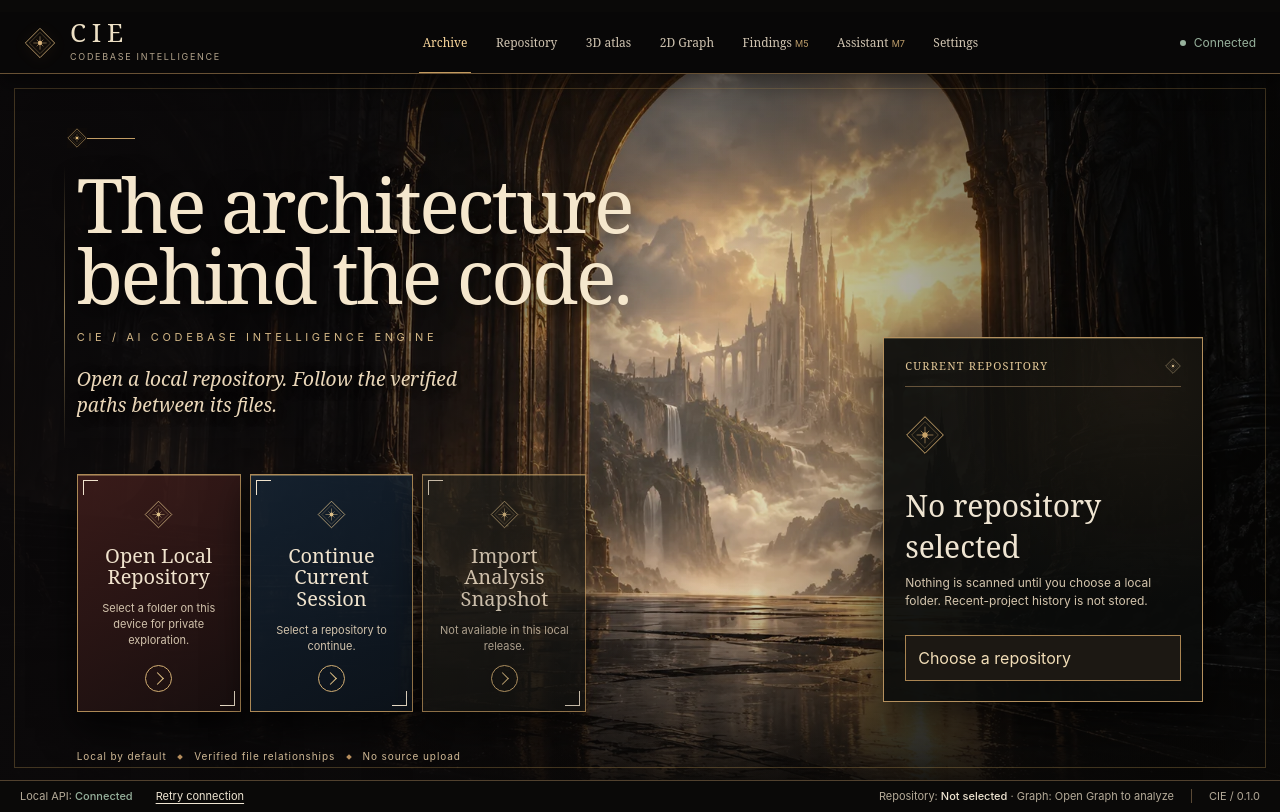
Test: discards a late tree response after switching repositories
Click the button "Repository".
click(527, 42)  # box 492,12 -> 561,73
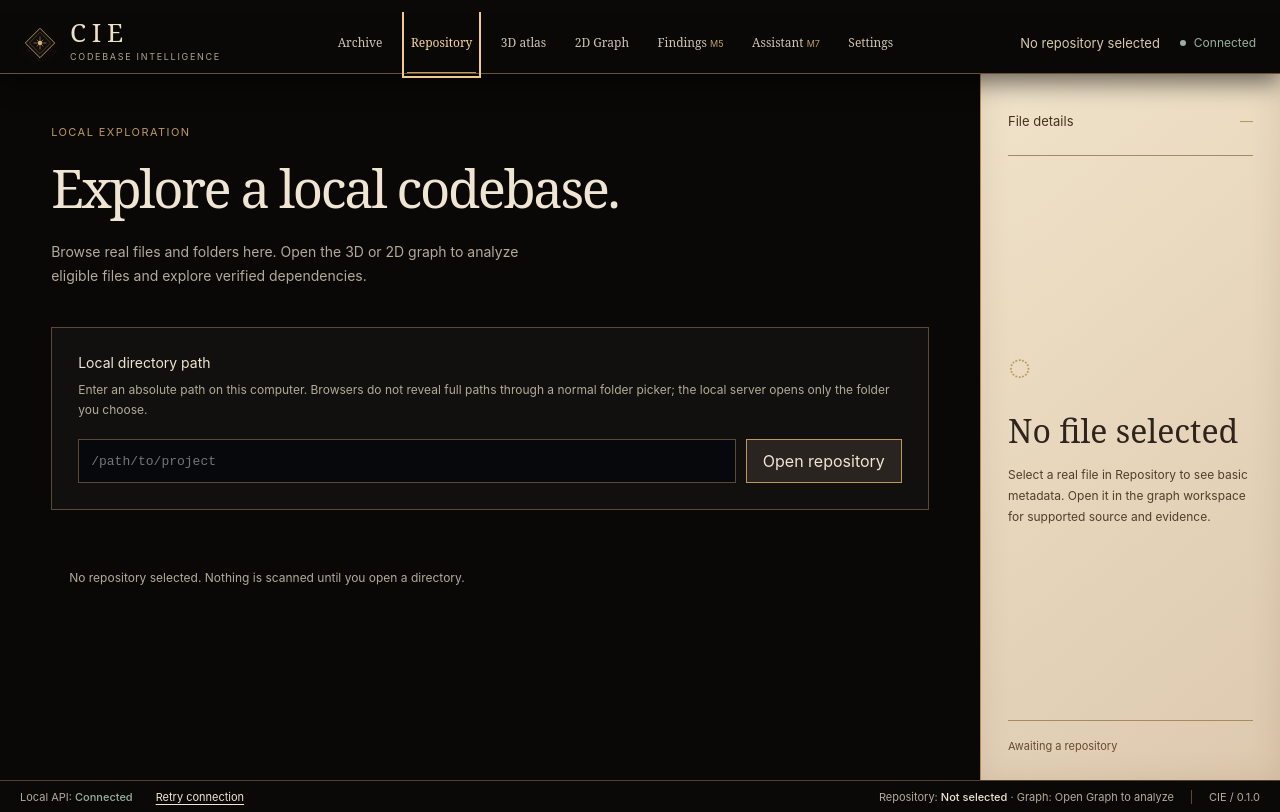
Type "/first" into the field labelled "Local directory path".
click(407, 462); type("/first")  # box 78,440 -> 736,484
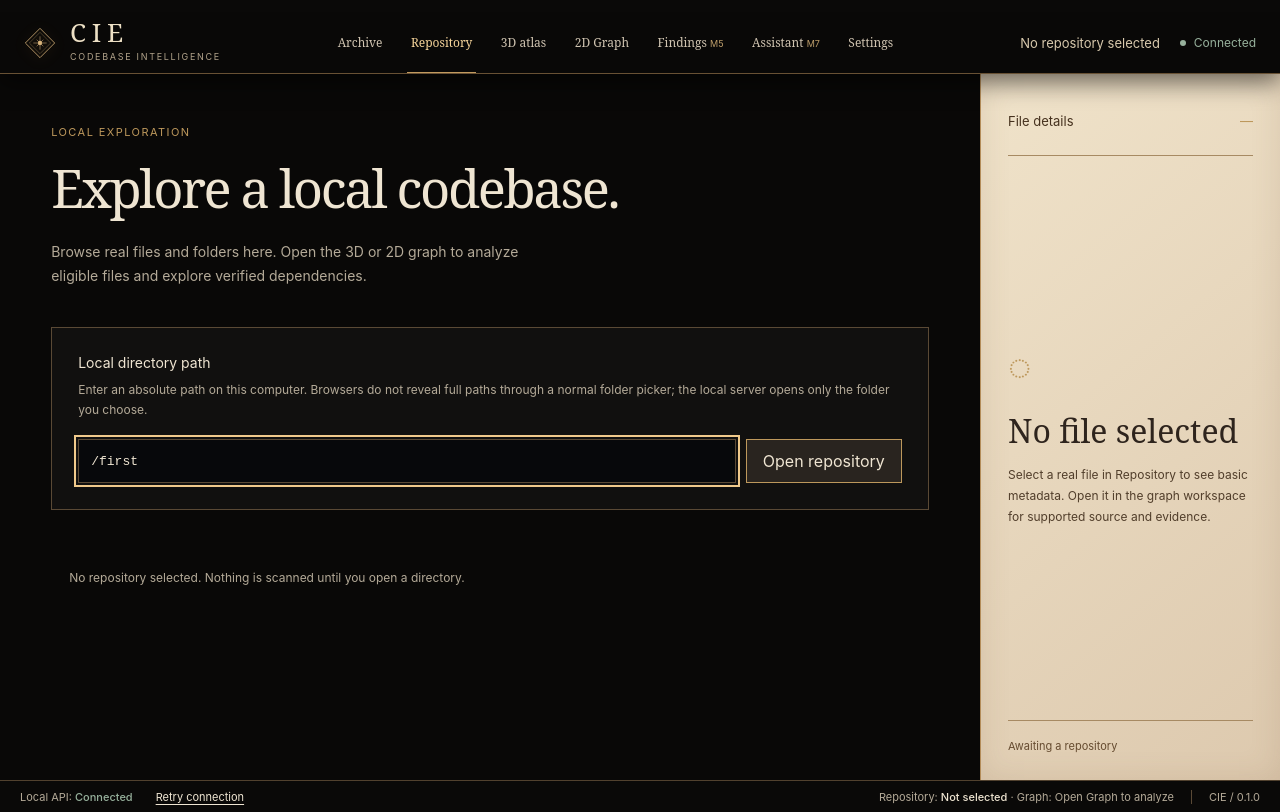
Click the button "Open repository".
click(824, 462)  # box 746,440 -> 902,484
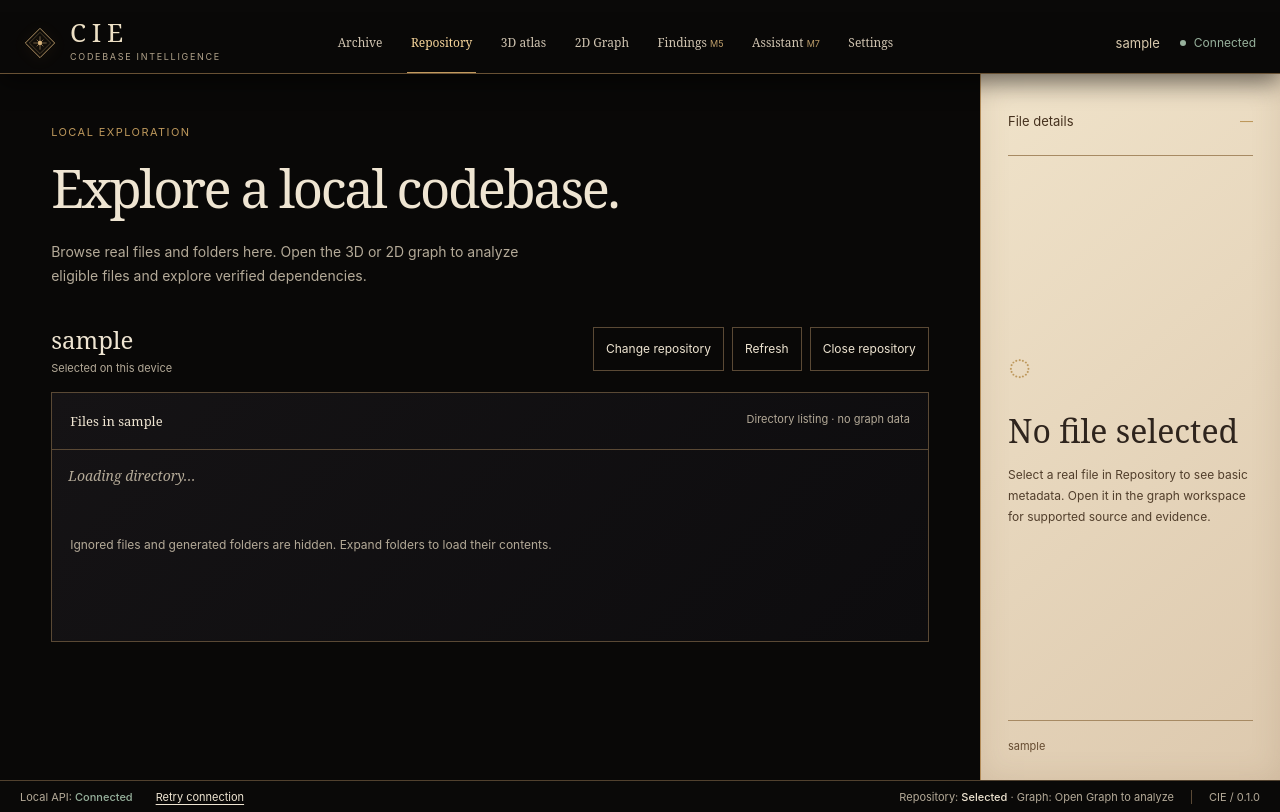
expect the button "Change repository" is shown: met
Click the button "Change repository".
click(658, 349)  # box 593,327 -> 724,371
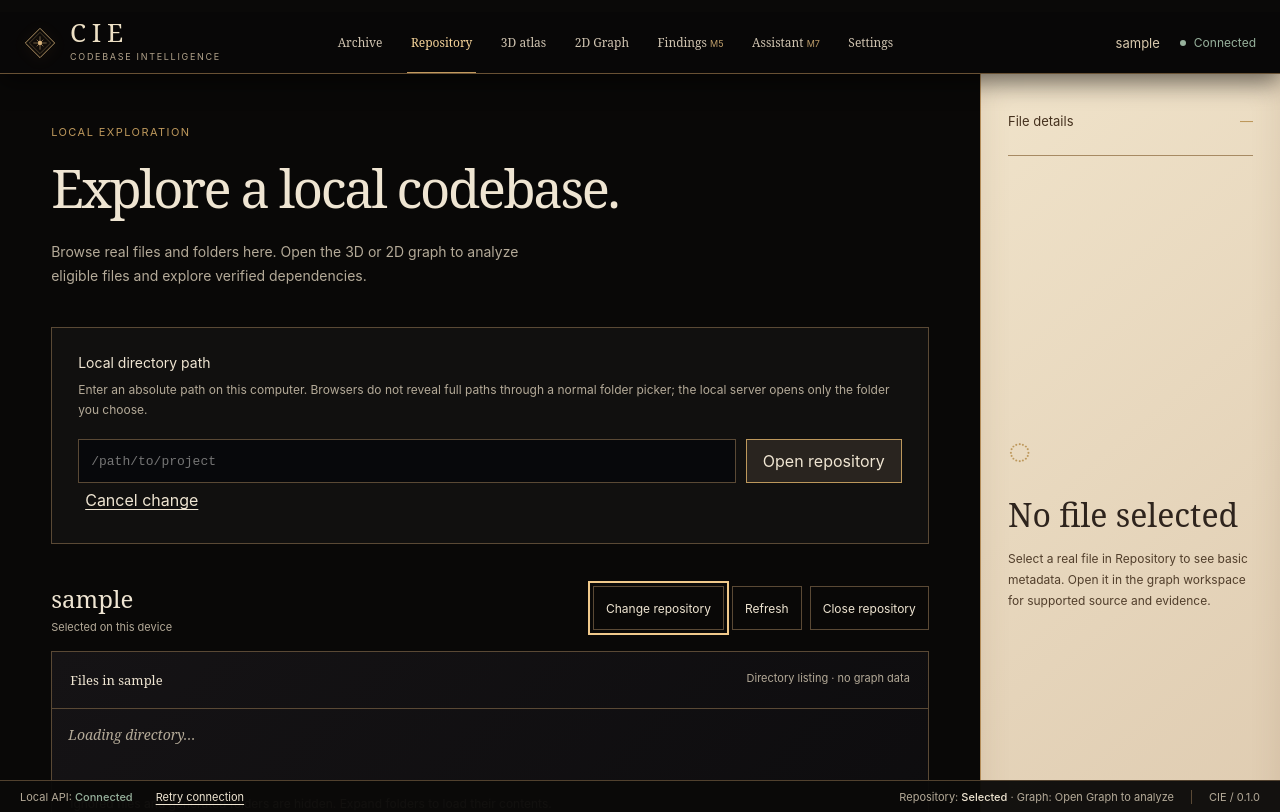
Type "/second" into the field labelled "Local directory path".
click(407, 462); type("/second")  # box 78,440 -> 736,484
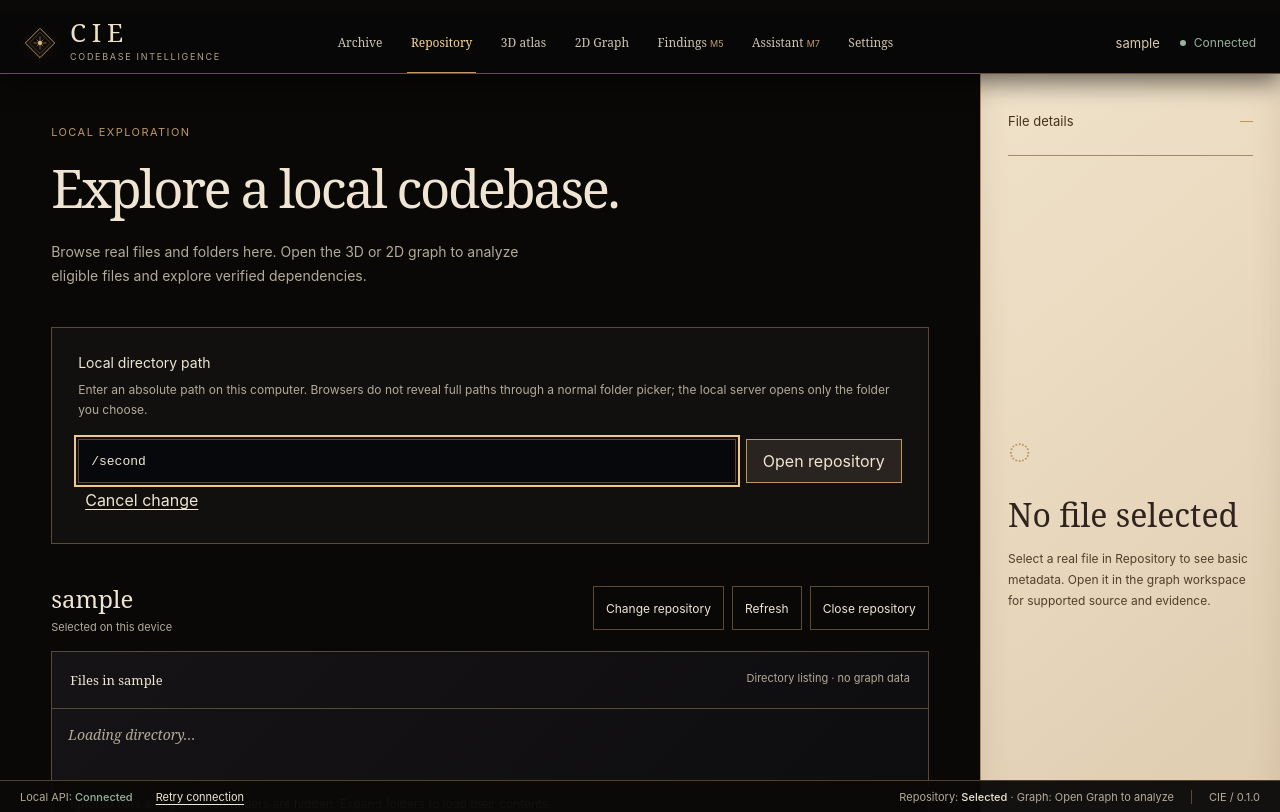
Click the button "Open repository".
click(824, 462)  # box 746,440 -> 902,484
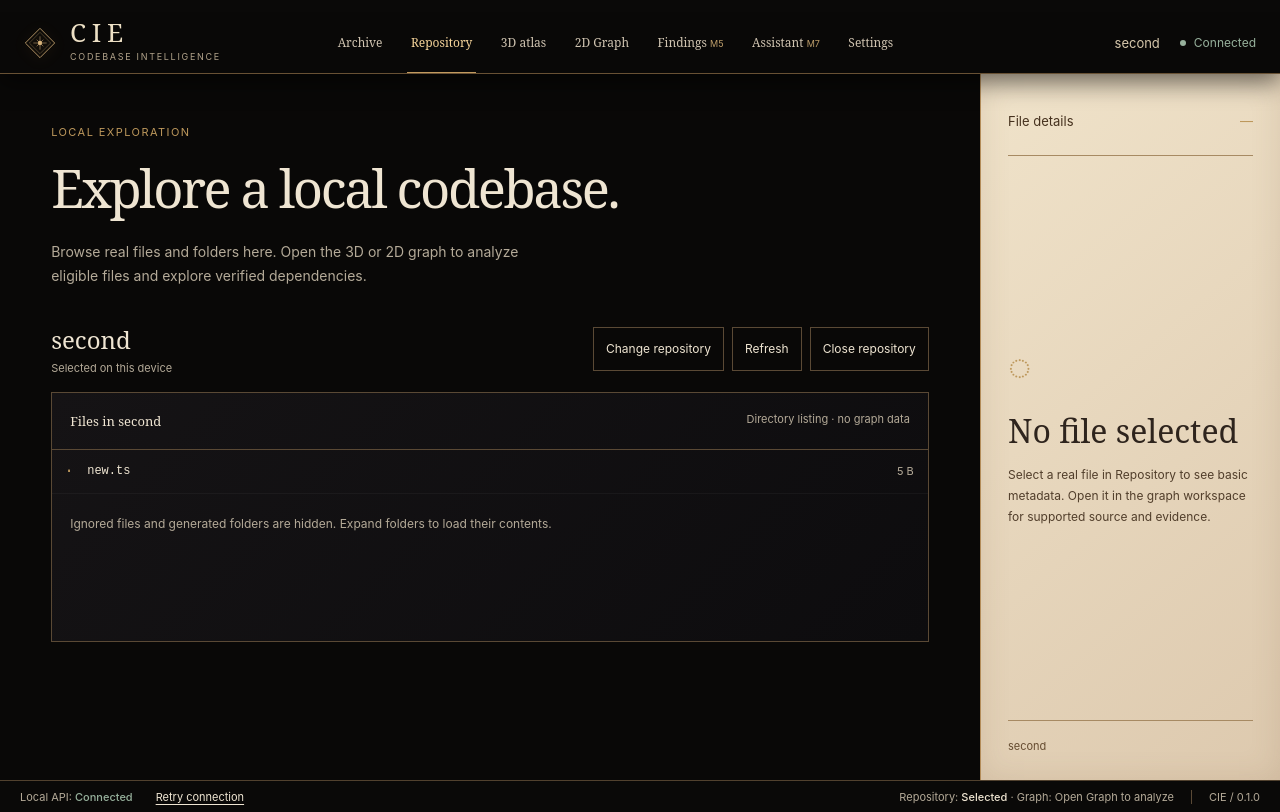
expect the text "new.ts" is shown: met, box 87,464 -> 130,478
